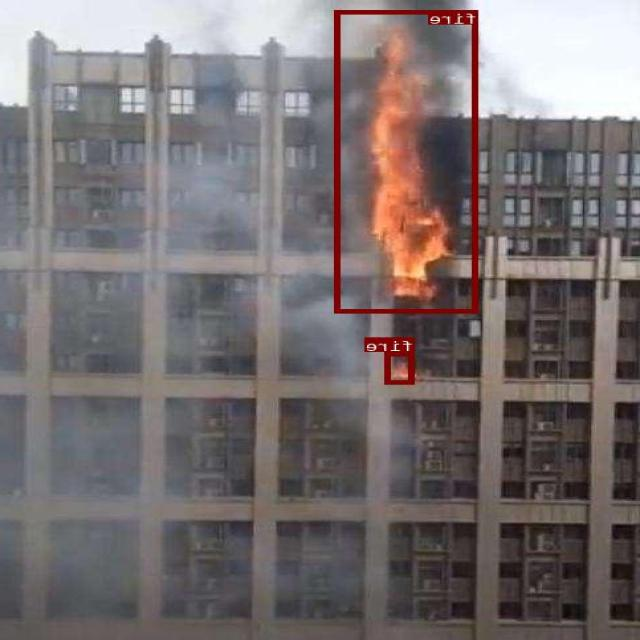fire: (336, 10, 478, 312), (386, 352, 415, 383)
